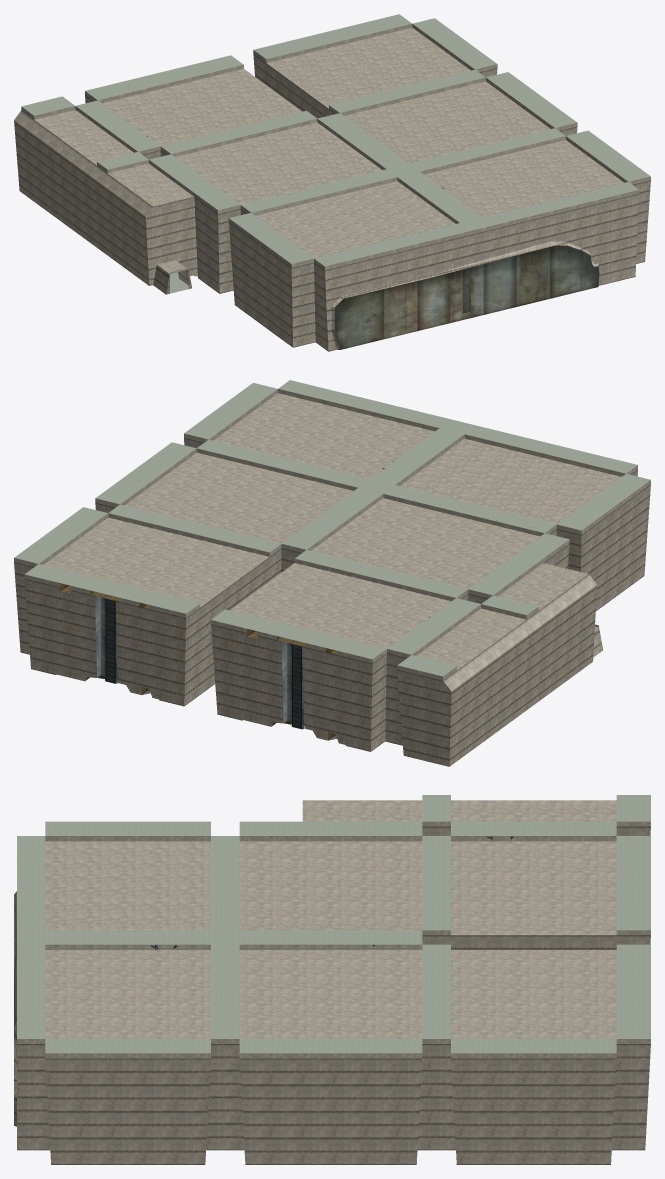
Rendered from thm_yavn_great_massassi_temple_r3_hangar_mesh_r3.fbx.
3 renders of one model, top to bottom at view 1: azimuth 30°, elevation 25°; view 2: azimuth 150°, elevation 25°; view 3: azimuth 270°, elevation 25°, orthographic. The views are drawn at different scales.
Visible parts, largest first — view 1: mesh_node; view 2: mesh_node; view 3: mesh_node.
Boxes of the visible parts, left/top/right/bottom form: mesh_node: left=14, top=14, right=650, bottom=351; mesh_node: left=14, top=380, right=650, bottom=766; mesh_node: left=14, top=795, right=650, bottom=1164.
Size of the model in its own units: 109 by 22.05 by 111.
